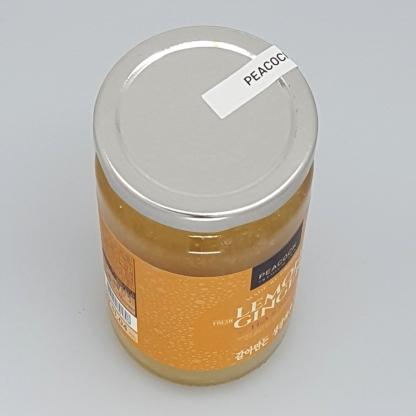--------------400G: (91, 25, 318, 387)
